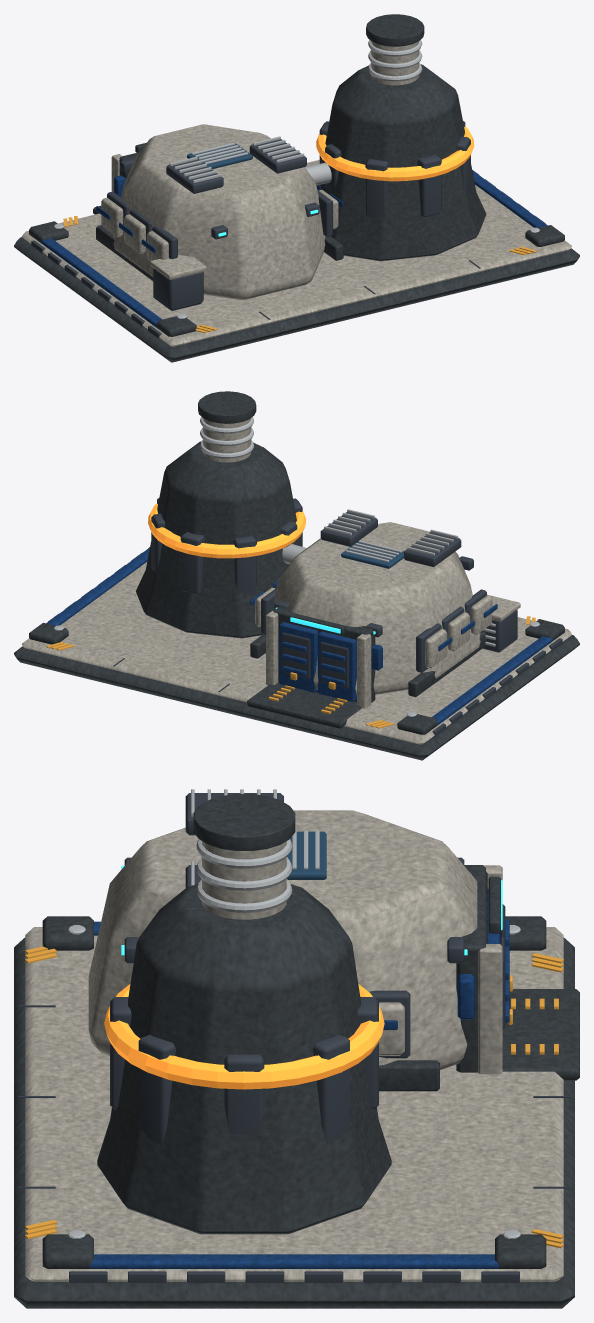
File: solis_fonderie_de_precision.gltf
3 renders of one model, top to bottom at view 1: azimuth 30°, elevation 25°; view 2: azimuth 150°, elevation 25°; view 3: azimuth 270°, elevation 25°, orthographic. The views are drawn at different scales.
Parts seen in each view (by area): view 1: Building.003_Geometry; view 2: Building.003_Geometry, Door_0_L.002_Geometry, Door_0_R.002_Geometry; view 3: Building.003_Geometry, Door_0_R.002_Geometry.
Part boxes in pixels (x1,y1,x2,y2): Building.003_Geometry: [14, 14, 579, 362]; Building.003_Geometry: [14, 391, 579, 760]; Door_0_L.002_Geometry: [317, 631, 356, 701]; Door_0_R.002_Geometry: [279, 622, 318, 692]; Building.003_Geometry: [14, 789, 579, 1308]; Door_0_R.002_Geometry: [487, 921, 512, 1029].
Size of the model in its own units: 5.92 by 3.03 by 3.96.
Materials: 9 (3 with a texture image).
